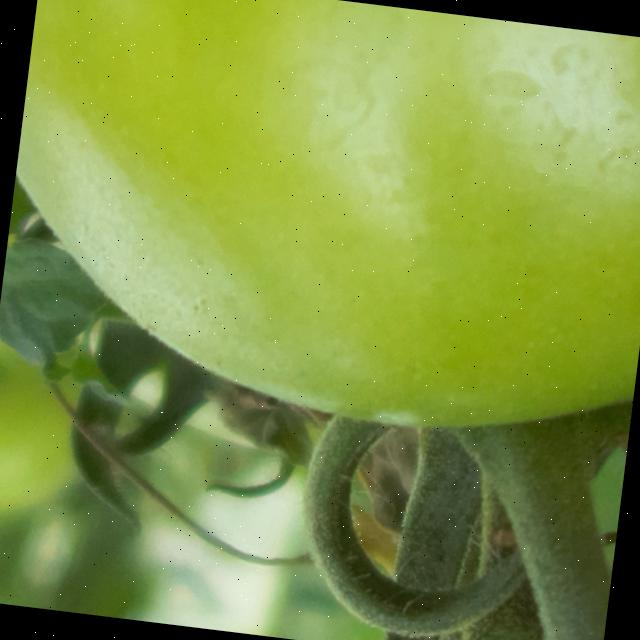tomato: (0, 0, 640, 557)
